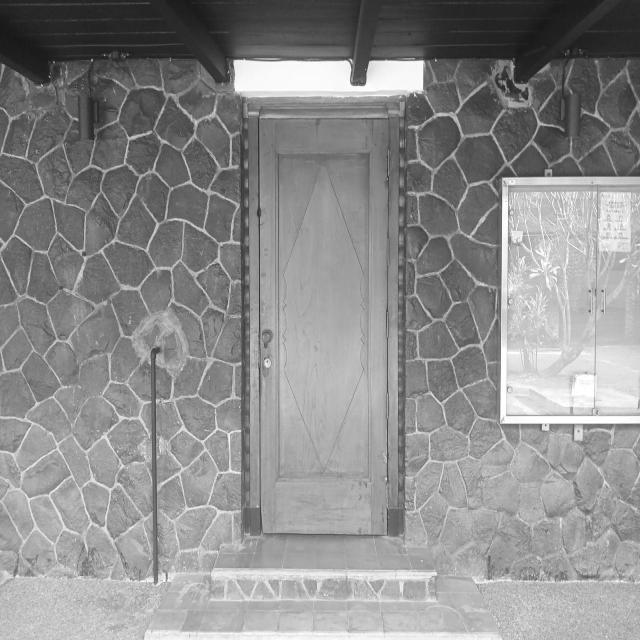door: (253, 105, 394, 540)
